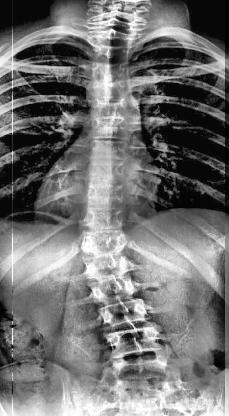Vertebrae: (97, 327, 166, 354), (88, 274, 140, 302), (78, 226, 132, 252), (98, 301, 152, 325), (80, 252, 136, 275), (87, 117, 137, 141), (81, 209, 131, 232), (84, 164, 130, 188), (83, 187, 131, 209), (88, 140, 130, 164), (85, 80, 135, 100), (87, 42, 133, 62), (88, 97, 132, 117), (87, 61, 133, 80), (87, 27, 135, 43)
